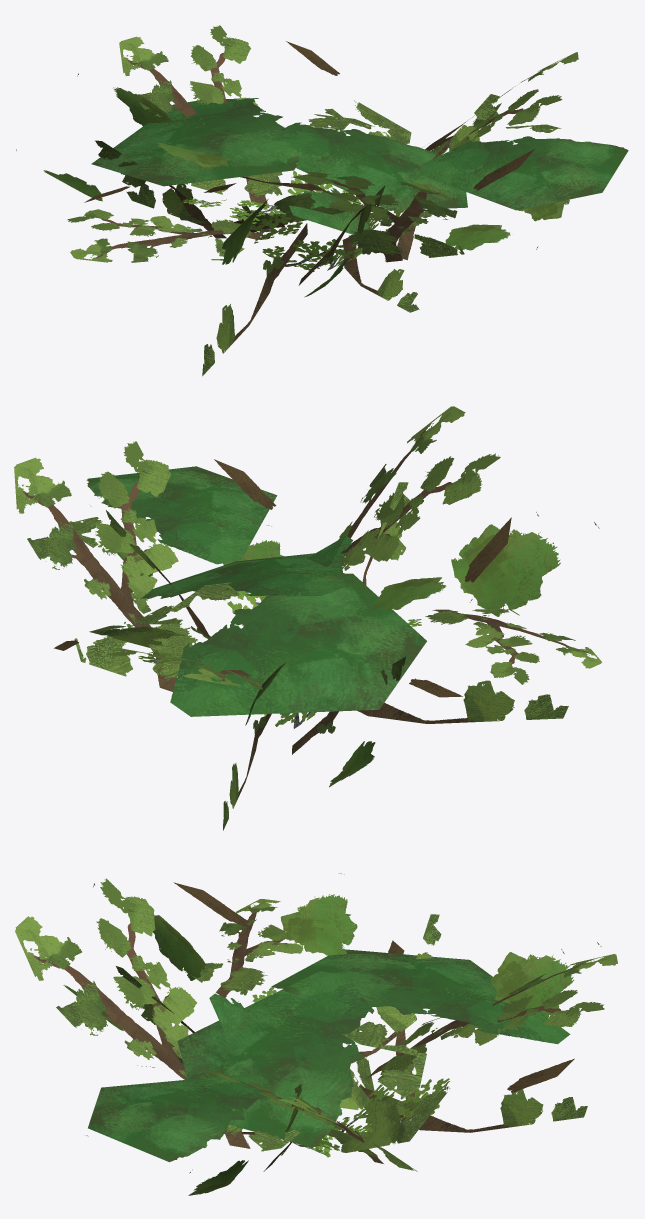
File: Buisson_002.fbx
3 views of the same model, one above another, from view 1: azimuth 30°, elevation 25°; view 2: azimuth 150°, elevation 25°; view 3: azimuth 270°, elevation 25° (orthographic). The views are drawn at different scales.
Visible parts, largest first — view 1: Buisson_002; view 2: Buisson_002; view 3: Buisson_002.
Part boxes in pixels (<box>): Buisson_002: <box>16,25,628,376</box>; Buisson_002: <box>14,406,601,830</box>; Buisson_002: <box>15,873,617,1195</box>.
Size of the model in its own units: 4.32 by 1.92 by 3.98.
